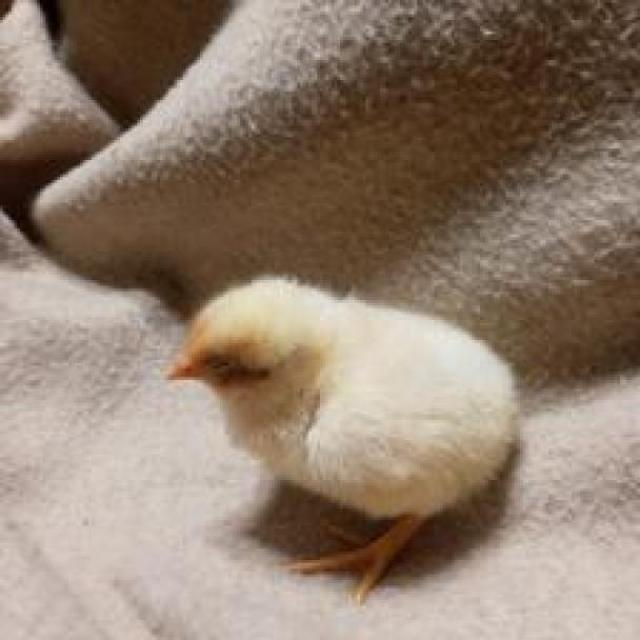Chicken: (157, 256, 561, 607)
